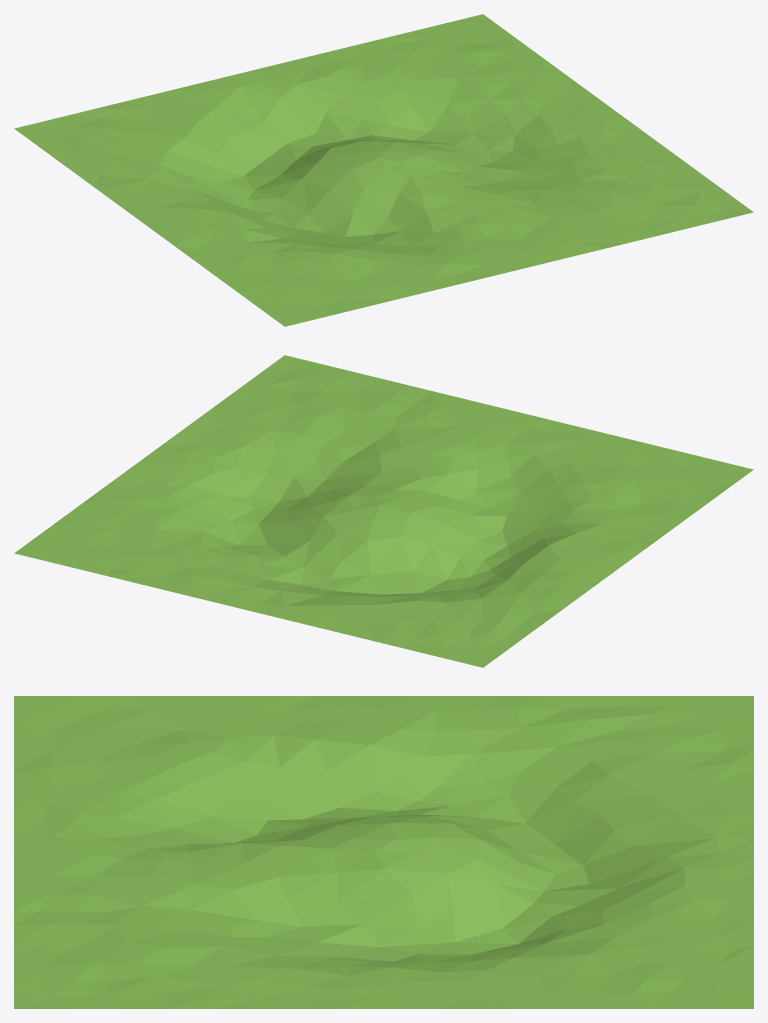
File: MT_Terrain_M_b_11.fbx
3 renders of one model, top to bottom at view 1: azimuth 30°, elevation 25°; view 2: azimuth 150°, elevation 25°; view 3: azimuth 270°, elevation 25°, orthographic. The views are drawn at different scales.
Visible parts, largest first — view 1: MT_Terrain_M_b_11; view 2: MT_Terrain_M_b_11; view 3: MT_Terrain_M_b_11.
Part boxes in pixels (x1,y1,x2,y2): MT_Terrain_M_b_11: (14, 14, 753, 326); MT_Terrain_M_b_11: (14, 355, 753, 667); MT_Terrain_M_b_11: (14, 696, 753, 1008).
Bounding box in the file's own units: 5000 × 329 × 5000.
